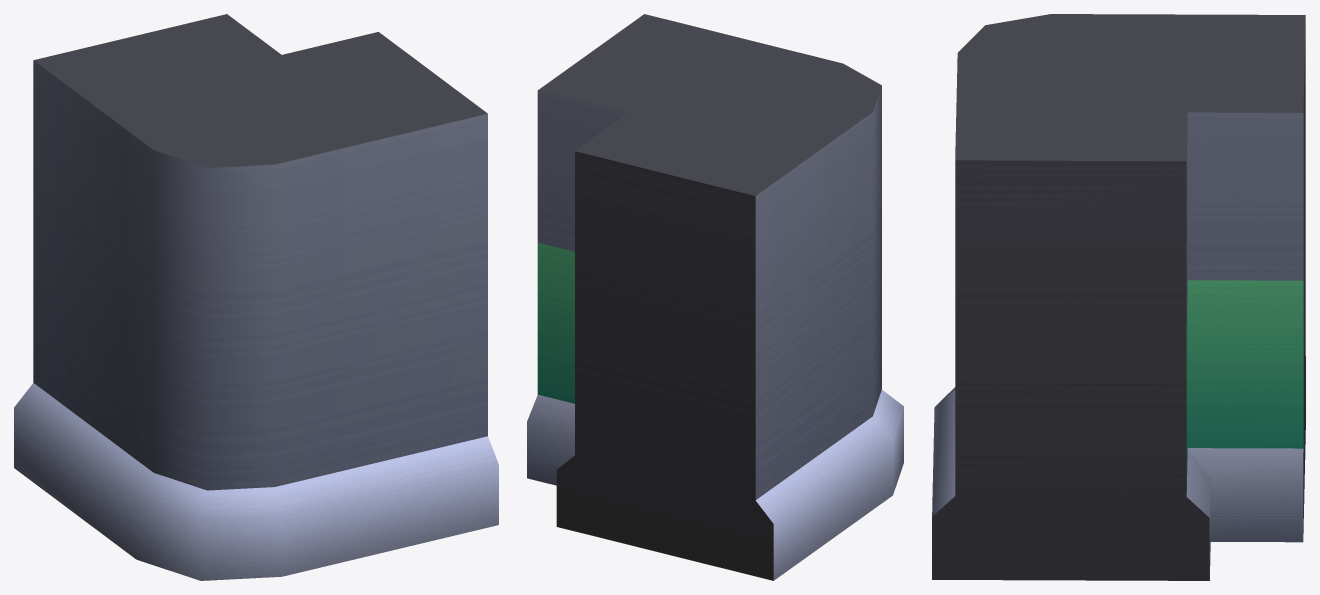
Rendered from wall-corner.003_lev2.glb.
The picture shows the model from 3 angles, left to right: view 1: azimuth 30°, elevation 25°; view 2: azimuth 150°, elevation 25°; view 3: azimuth 270°, elevation 25°; orthographic projection. The views are drawn at different scales.
Parts seen in each view (by area): view 1: wall-corner.003_lev2; view 2: wall-corner.003_lev2; view 3: wall-corner.003_lev2.
Part boxes in pixels (box(x1,y1,x2,y2)): wall-corner.003_lev2: box(14, 14, 498, 580); wall-corner.003_lev2: box(527, 14, 903, 580); wall-corner.003_lev2: box(932, 14, 1305, 580).
Bounding box in the file's own units: 8.03 × 10 × 8.08.
1 material, 1 textured.
